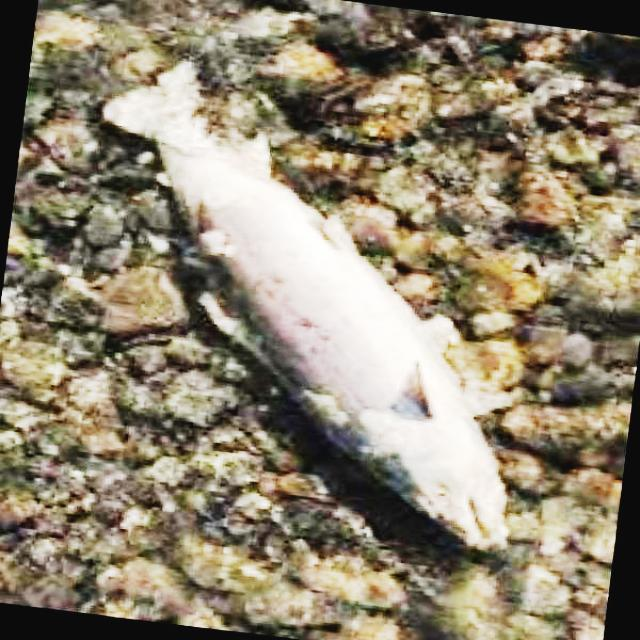Fungal Disease -Saprolegniasis-: (104, 62, 508, 547), (104, 62, 506, 547), (104, 62, 506, 547)
